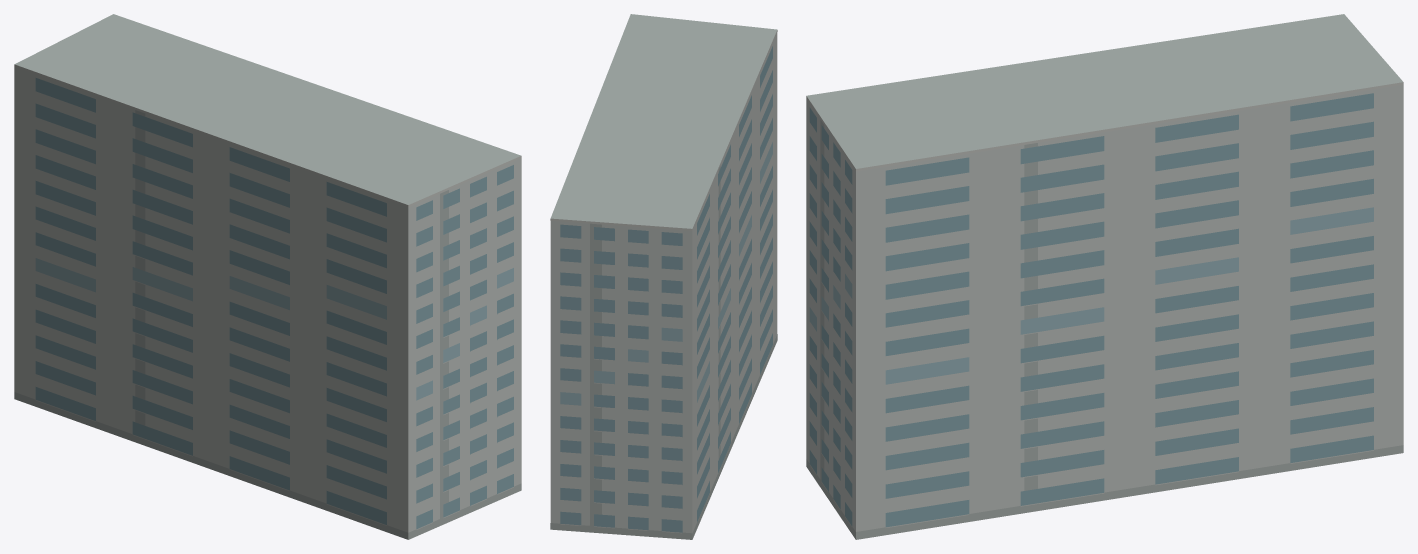
The model's file is residential-a112f768-bba1-4085-811b-0c9a4a0ff5c7.glb.
3 views of the same model, side by side, from view 1: azimuth 30°, elevation 25°; view 2: azimuth 150°, elevation 25°; view 3: azimuth 270°, elevation 25° (orthographic). The views are drawn at different scales.
Visible parts, largest first — view 1: residential-a112f768-bba1-4085-811b-0c9a4a0ff5c7.tmp; view 2: residential-a112f768-bba1-4085-811b-0c9a4a0ff5c7.tmp; view 3: residential-a112f768-bba1-4085-811b-0c9a4a0ff5c7.tmp.
Boxes of the visible parts, <box> form: residential-a112f768-bba1-4085-811b-0c9a4a0ff5c7.tmp: <box>14,14,521,539</box>; residential-a112f768-bba1-4085-811b-0c9a4a0ff5c7.tmp: <box>550,14,777,539</box>; residential-a112f768-bba1-4085-811b-0c9a4a0ff5c7.tmp: <box>806,14,1403,539</box>.
Bounding box in the file's own units: 30.48 × 34 × 49.63.
